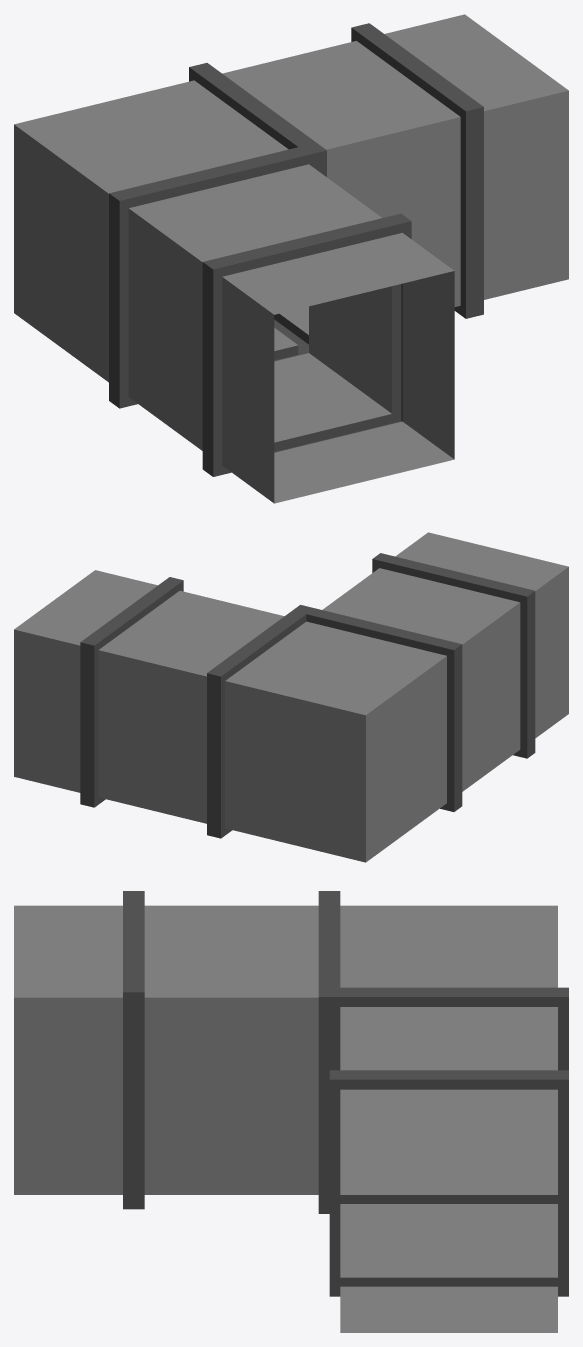
File: Vent_02.fbx
The picture shows the model from 3 angles, top to bottom: view 1: azimuth 30°, elevation 25°; view 2: azimuth 150°, elevation 25°; view 3: azimuth 270°, elevation 25°; orthographic projection. The views are drawn at different scales.
Parts seen in each view (by area): view 1: Vent_02; view 2: Vent_02; view 3: Vent_02.
Boxes of the visible parts, x1,y1,x2,y2 form: Vent_02: [14, 14, 568, 503]; Vent_02: [14, 532, 568, 862]; Vent_02: [14, 891, 568, 1332].
Bounding box in the file's own units: 102 × 44 × 102.
1 material, 1 textured.
